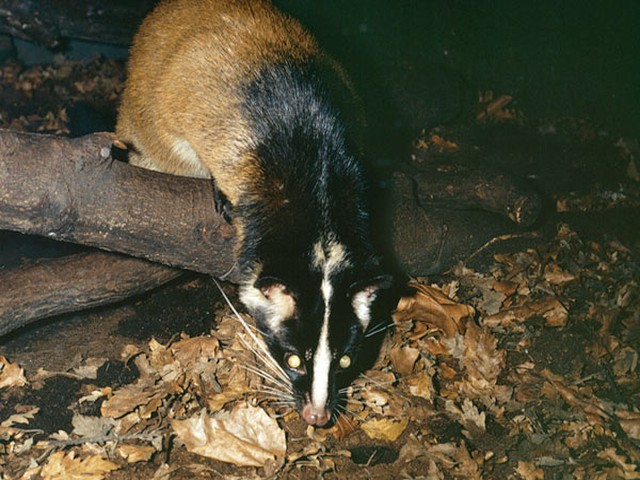civet: (114, 3, 412, 435)
